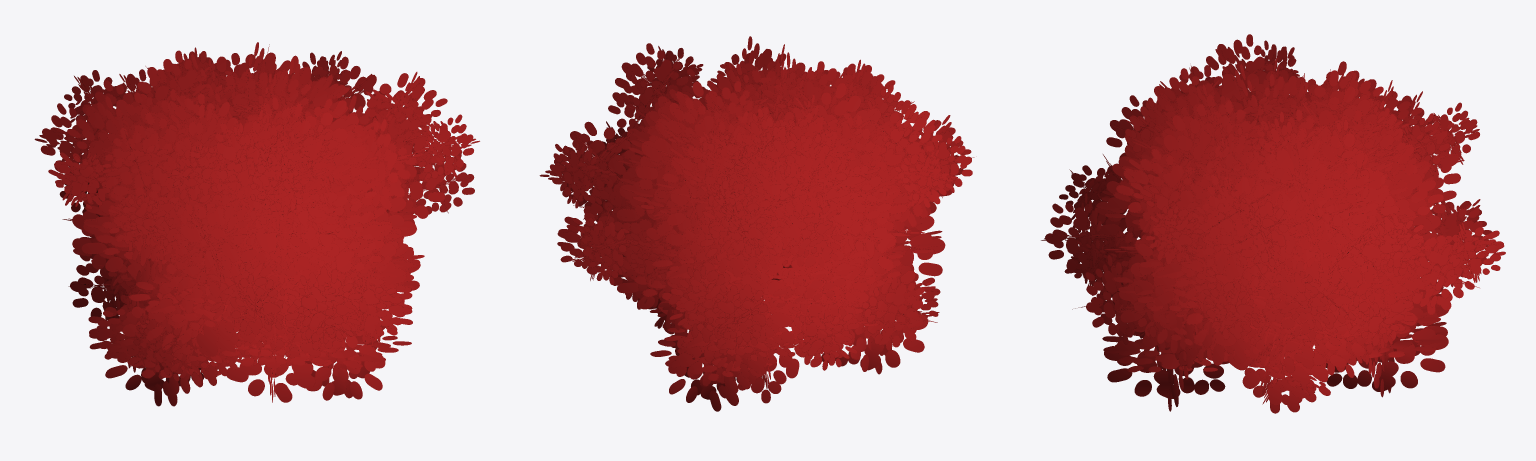
The model's file is nature-bush-common.glb.
3 views of the same model, side by side, from view 1: azimuth 30°, elevation 25°; view 2: azimuth 150°, elevation 25°; view 3: azimuth 270°, elevation 25° (orthographic). The views are drawn at different scales.
Parts seen in each view (by area): view 1: Bush_Common; view 2: Bush_Common; view 3: Bush_Common.
Boxes of the visible parts, x1=… form: Bush_Common: x1=34, y1=42, x2=479, y2=406; Bush_Common: x1=539, y1=36, x2=974, y2=411; Bush_Common: x1=1041, y1=34, x2=1505, y2=413.
Bounding box in the file's own units: 1.91 × 1.58 × 1.97.
1 material, 1 textured.
